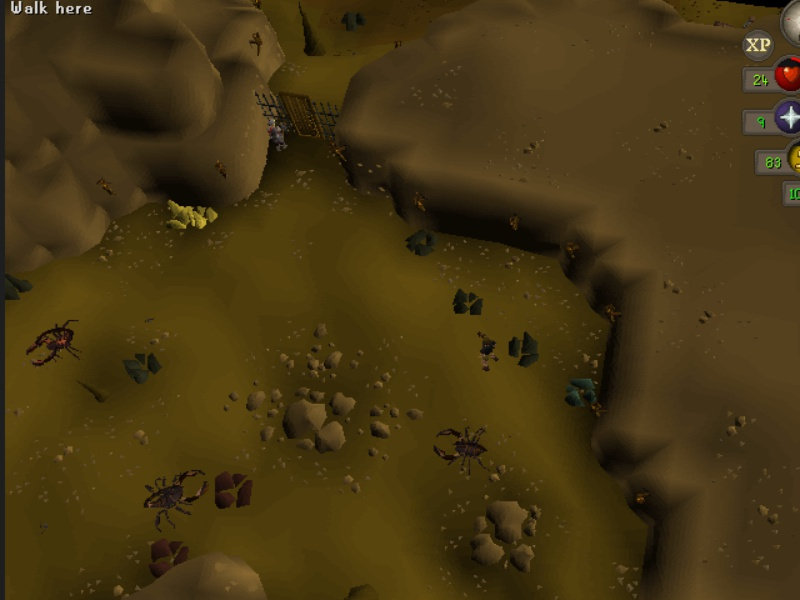adamant: (561, 374, 600, 412)
coal: (505, 328, 544, 372), (121, 351, 166, 385), (403, 223, 439, 258), (1, 269, 35, 305), (450, 286, 486, 318), (339, 9, 370, 33)
gold: (186, 201, 223, 232), (161, 196, 191, 234)
iron: (212, 467, 256, 515), (146, 534, 190, 582)
